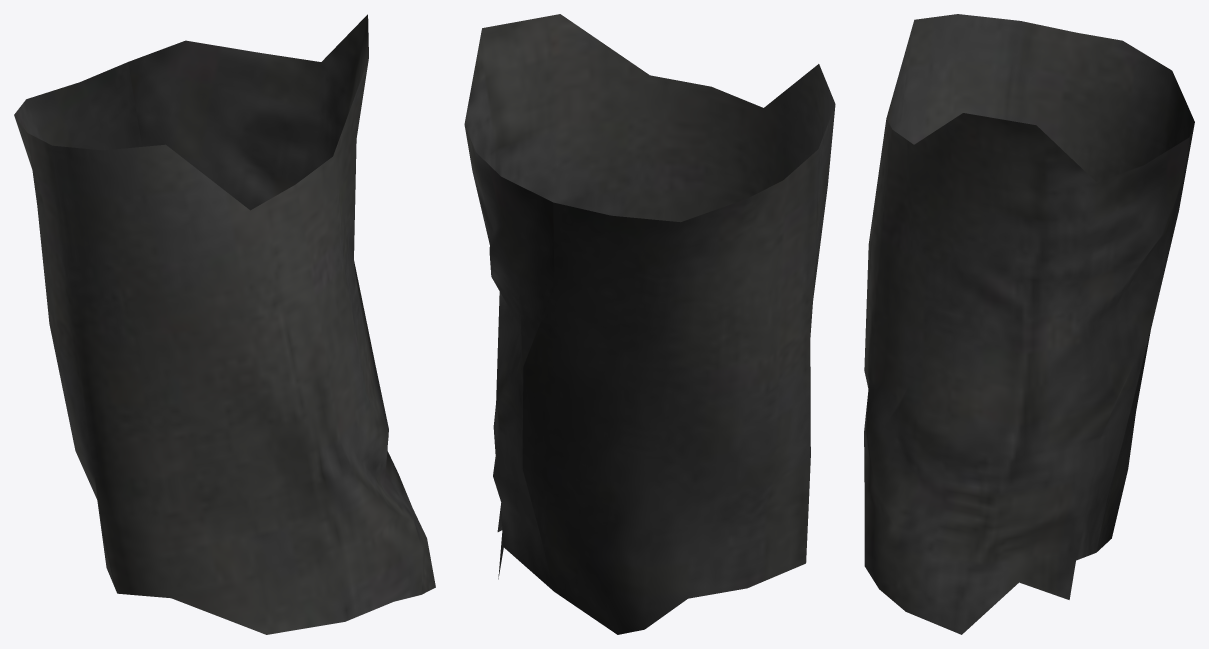
Rendered from Alumno2LeftLeg.obj.
The picture shows the model from 3 angles, left to right: view 1: azimuth 30°, elevation 25°; view 2: azimuth 150°, elevation 25°; view 3: azimuth 270°, elevation 25°; orthographic projection. The views are drawn at different scales.
Visible parts, largest first — view 1: Alumno2LeftLeg; view 2: Alumno2LeftLeg; view 3: Alumno2LeftLeg.
Part boxes in pixels (left/top/right/bottom): Alumno2LeftLeg: left=14, top=14, right=435, bottom=634; Alumno2LeftLeg: left=464, top=14, right=835, bottom=634; Alumno2LeftLeg: left=864, top=14, right=1194, bottom=634.
Bounding box in the file's own units: 0.3133 × 0.458 × 0.2756.
Materials: 1 (1 with a texture image).
